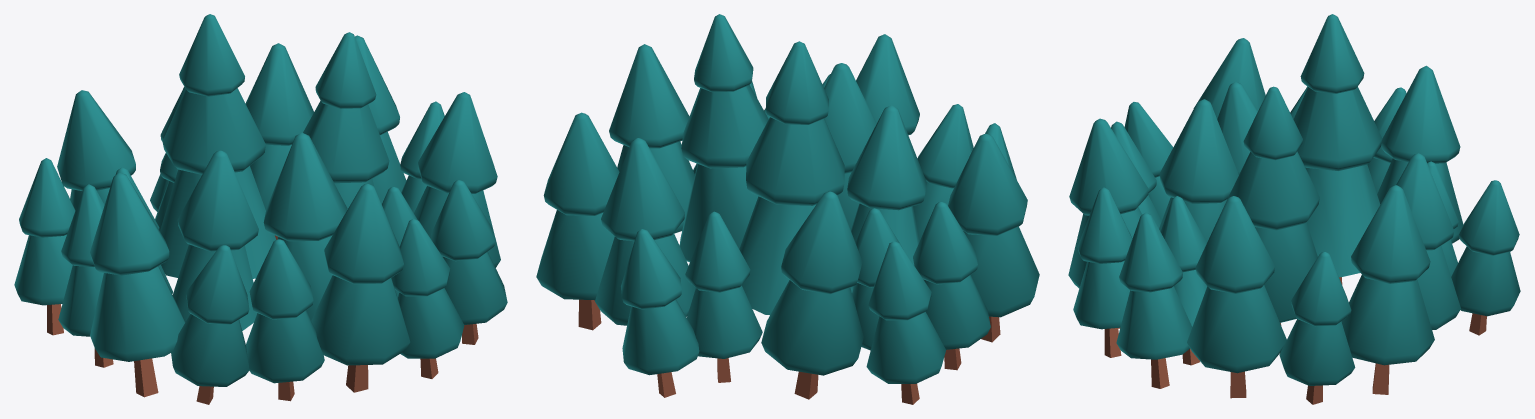
Rendered from forest.glb.
3 views of the same model, side by side, from view 1: azimuth 30°, elevation 25°; view 2: azimuth 150°, elevation 25°; view 3: azimuth 270°, elevation 25° (orthographic). The views are drawn at different scales.
Visible parts, largest first — view 1: forest; view 2: forest; view 3: forest.
Boxes of the visible parts, bbox=[...] form: forest: bbox=[14, 14, 507, 404]; forest: bbox=[536, 14, 1039, 404]; forest: bbox=[1068, 14, 1520, 404].
Size of the model in its own units: 1.93 by 1.36 by 1.9.
